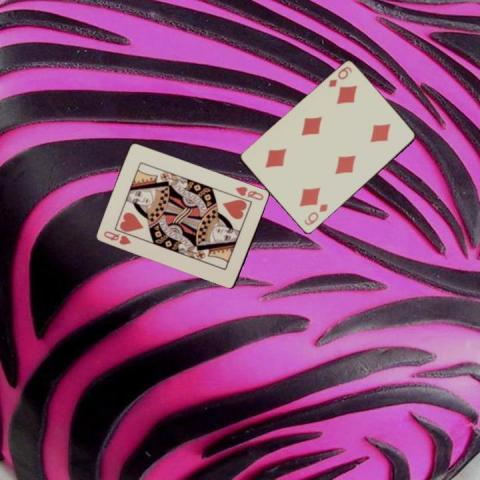6d: (302, 202, 330, 228), (326, 64, 354, 89)
Qh: (233, 183, 265, 202), (100, 228, 132, 246)
